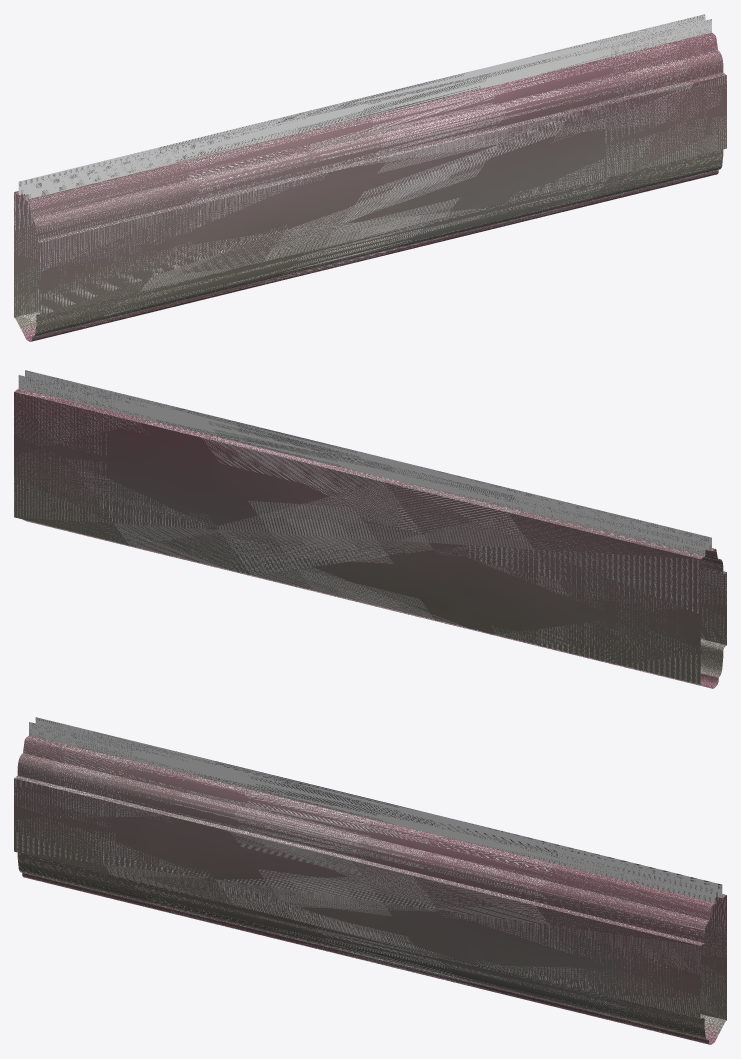
File: original-41.obj
3 renders of one model, top to bottom at view 1: azimuth 30°, elevation 25°; view 2: azimuth 150°, elevation 25°; view 3: azimuth 330°, elevation 25°, orthographic.
Visible parts, largest first — view 1: LT_11_BC1/LT_11_BC/mesh32/mesh32-geometry#mesh32-geometry; view 2: LT_11_BC1/LT_11_BC/mesh32/mesh32-geometry#mesh32-geometry; view 3: LT_11_BC1/LT_11_BC/mesh32/mesh32-geometry#mesh32-geometry.
Boxes of the visible parts, x1=… form: LT_11_BC1/LT_11_BC/mesh32/mesh32-geometry#mesh32-geometry: x1=14, y1=14, x2=726, y2=341; LT_11_BC1/LT_11_BC/mesh32/mesh32-geometry#mesh32-geometry: x1=14, y1=370, x2=726, y2=688; LT_11_BC1/LT_11_BC/mesh32/mesh32-geometry#mesh32-geometry: x1=14, y1=717, x2=726, y2=1044.
Bounding box in the file's own units: 0.5016 × 0.1062 × 0.0331.
